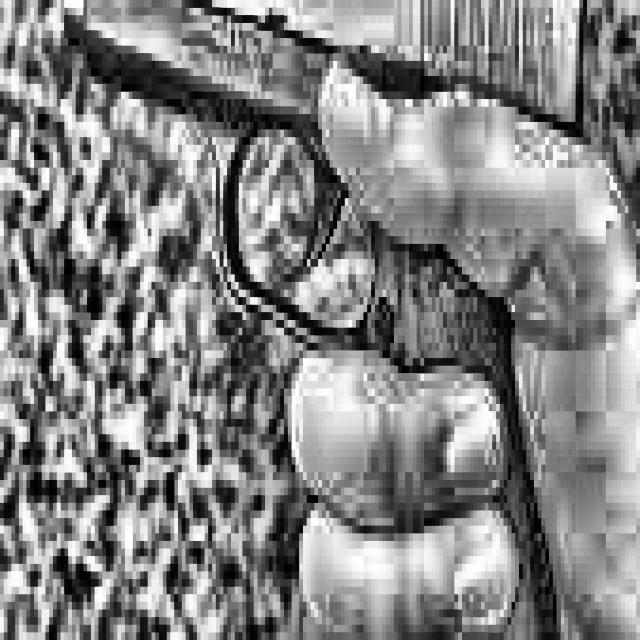Kahr: (57, 0, 587, 640)
